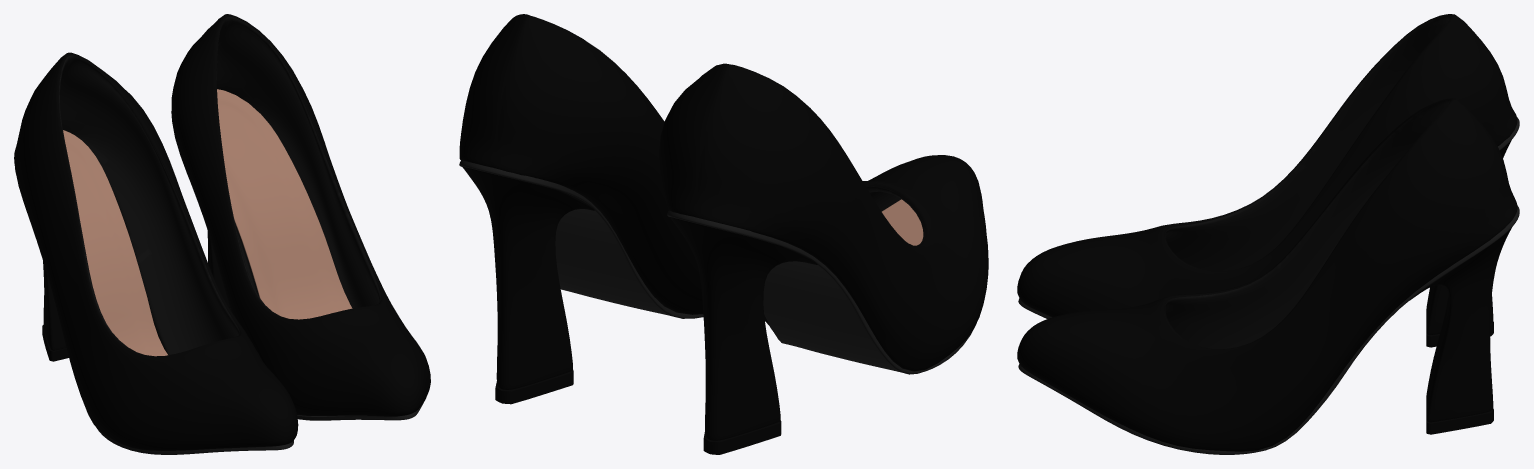
The model's file is pointed-heels.glb.
The picture shows the model from 3 angles, left to right: view 1: azimuth 30°, elevation 25°; view 2: azimuth 150°, elevation 25°; view 3: azimuth 270°, elevation 25°; orthographic projection. The views are drawn at different scales.
Visible parts, largest first — view 1: Women_slipper_12; view 2: Women_slipper_12; view 3: Women_slipper_12.
Boxes of the visible parts, x1,y1,x2,y2 form: Women_slipper_12: [14, 14, 430, 454]; Women_slipper_12: [459, 14, 988, 454]; Women_slipper_12: [1017, 14, 1519, 454].
Bounding box in the file's own units: 25.52 × 23.91 × 34.02.
Materials: 1 (1 with a texture image).
